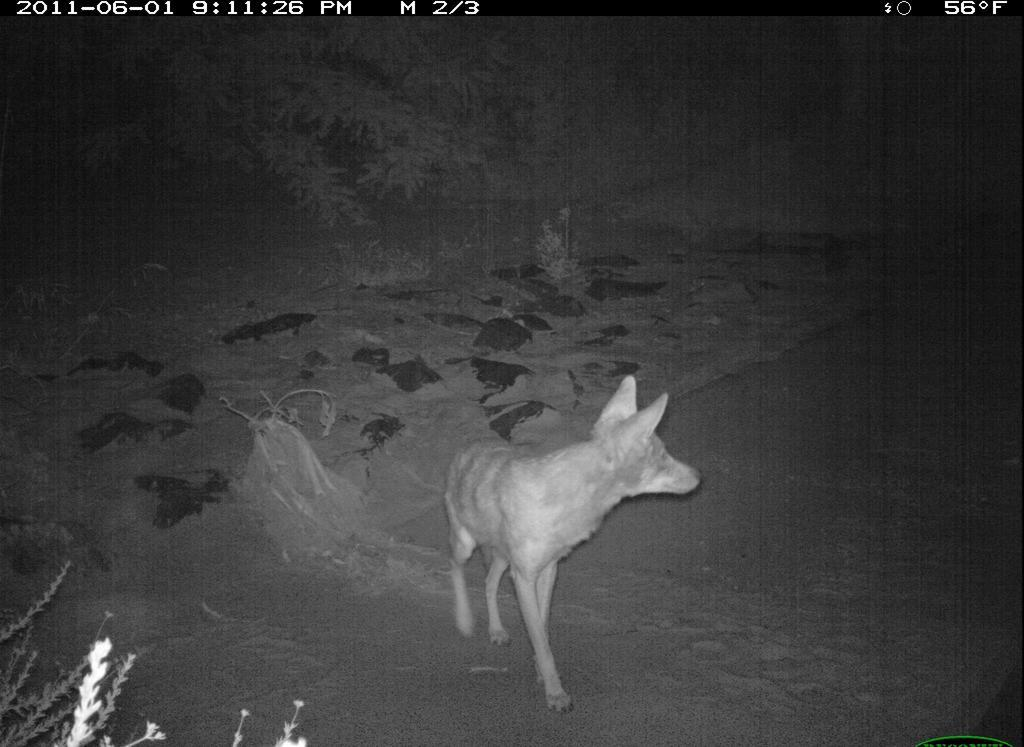coyote: (438, 376, 697, 706)
